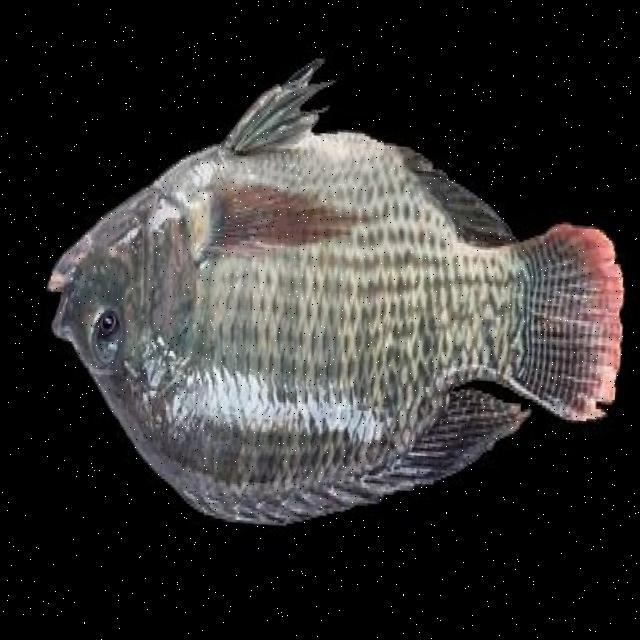ikan: (29, 38, 640, 553)
